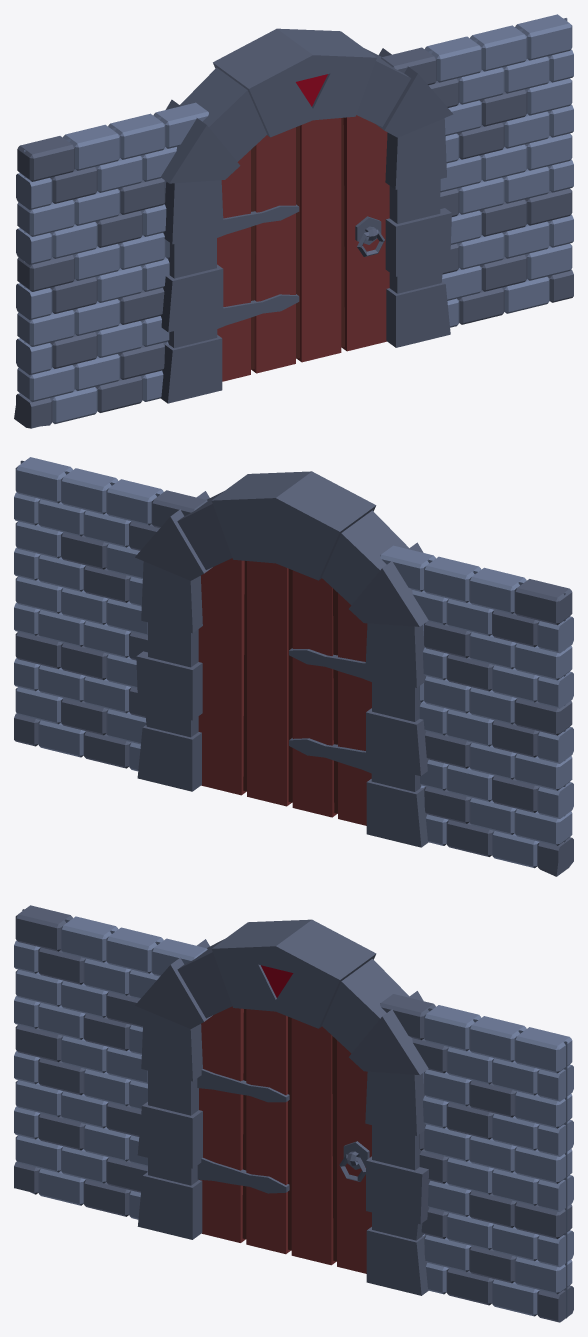
Rendered from muro con puerta grande.fbx.
The picture shows the model from 3 angles, top to bottom: view 1: azimuth 30°, elevation 25°; view 2: azimuth 150°, elevation 25°; view 3: azimuth 330°, elevation 25°; orthographic projection.
Visible parts, largest first — view 1: brick wall with door, door.002; view 2: brick wall with door, door.002; view 3: brick wall with door, door.002.
Boxes of the visible parts, bbox=[...] form: brick wall with door: bbox=[14, 14, 573, 428]; door.002: bbox=[217, 115, 389, 381]; brick wall with door: bbox=[14, 457, 573, 876]; door.002: bbox=[198, 558, 371, 825]; brick wall with door: bbox=[14, 905, 573, 1322]; door.002: bbox=[197, 1006, 371, 1273].
Size of the model in its own units: 633 by 354 by 73.09.
